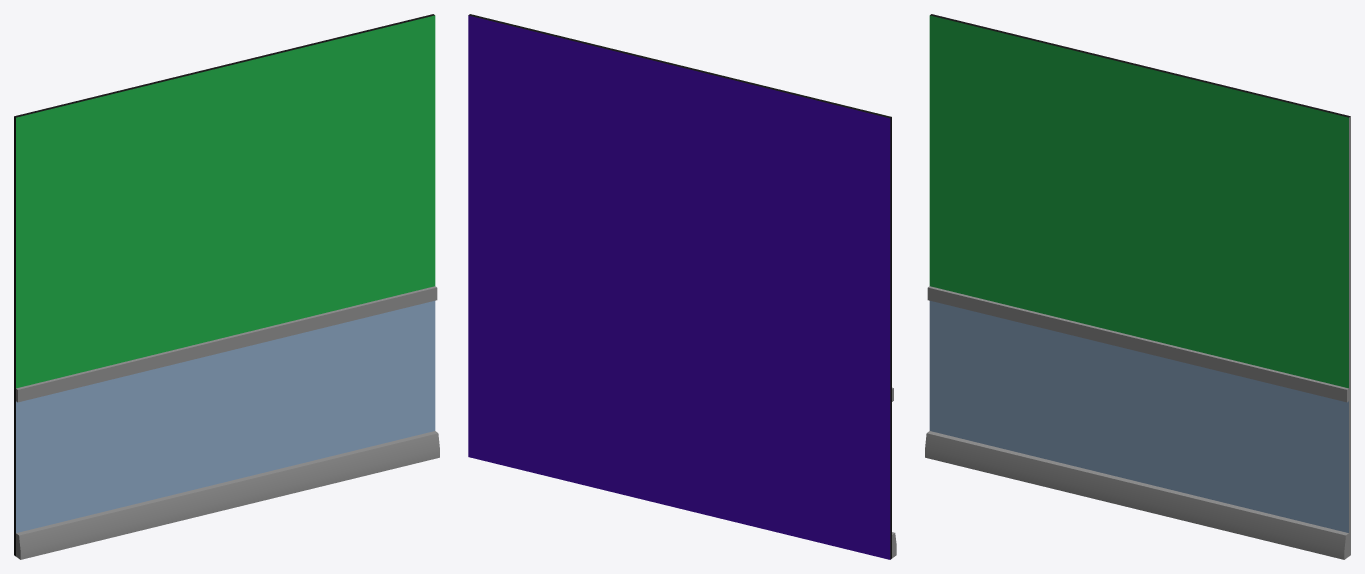
File: Wall.FBX
3 renders of one model, left to right at view 1: azimuth 30°, elevation 25°; view 2: azimuth 150°, elevation 25°; view 3: azimuth 330°, elevation 25°, orthographic.
Parts seen in each view (by area): view 1: Box006; view 2: Box006; view 3: Box006.
Boxes of the visible parts, x1,y1,x2,y2 form: Box006: (14, 14, 439, 559); Box006: (468, 14, 896, 559); Box006: (925, 14, 1350, 559).
Size of the model in its own units: 2.44 by 2.44 by 0.0663.
